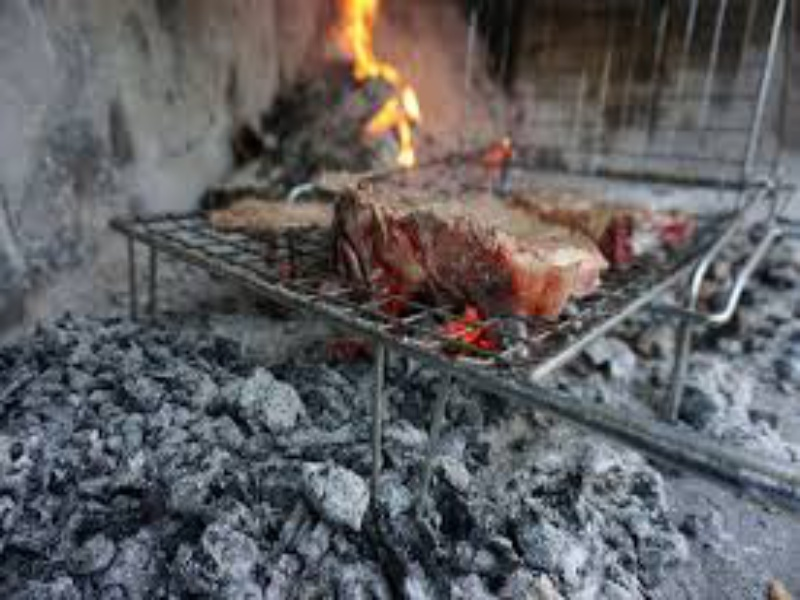fire: (327, 1, 398, 78), (362, 98, 399, 135), (399, 84, 425, 123), (397, 123, 416, 169)
